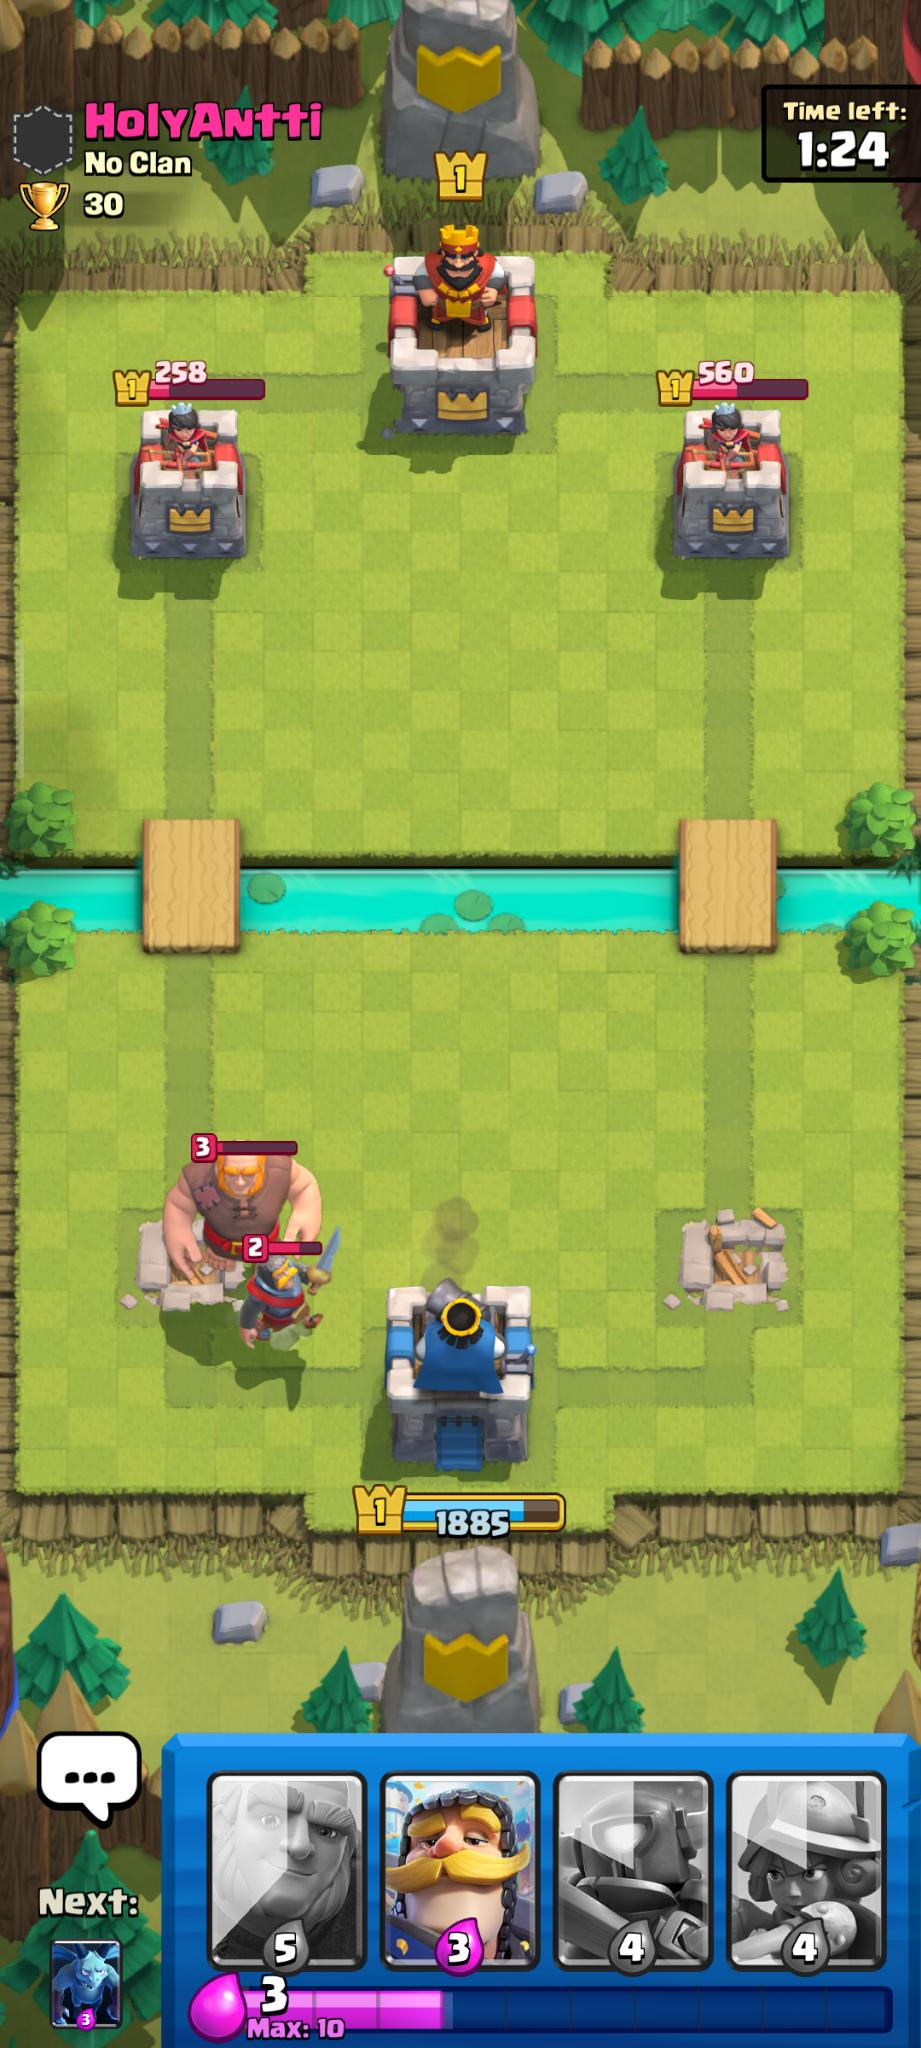chevalier: (234, 1245, 334, 1358)
geant: (161, 1135, 325, 1297)
